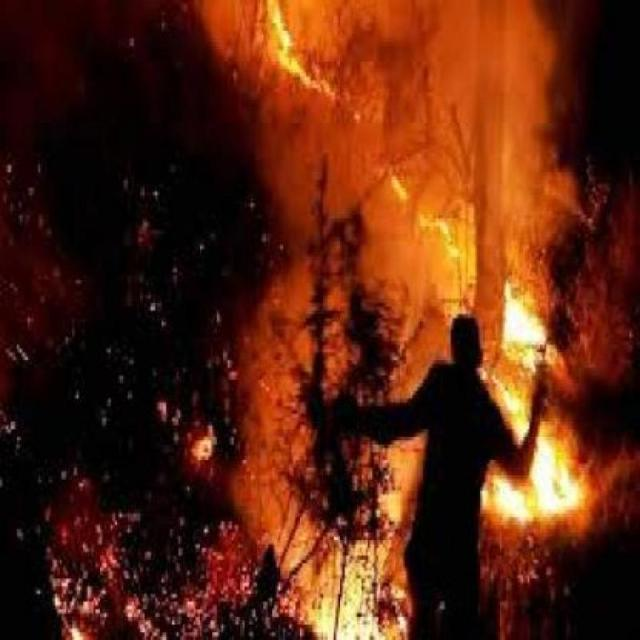Fire: (394, 142, 603, 526), (258, 463, 412, 640), (39, 460, 150, 640), (266, 4, 384, 159)
